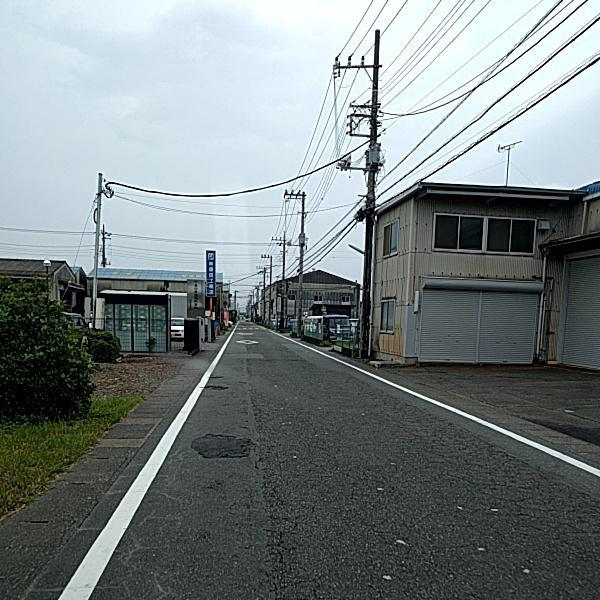D20: (432, 412, 596, 592)
